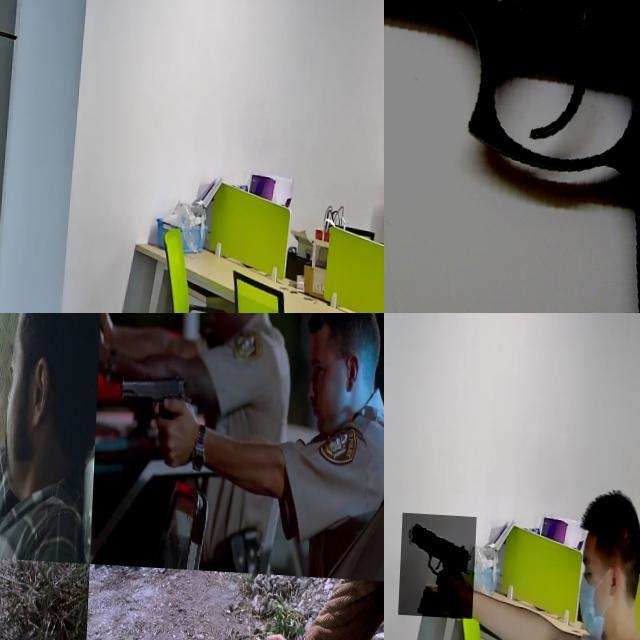gun-knife-thesis - v11 Yolov5 augmented: (384, 0, 640, 313), (0, 327, 53, 504), (112, 350, 196, 458), (402, 508, 479, 614), (0, 65, 24, 165)
